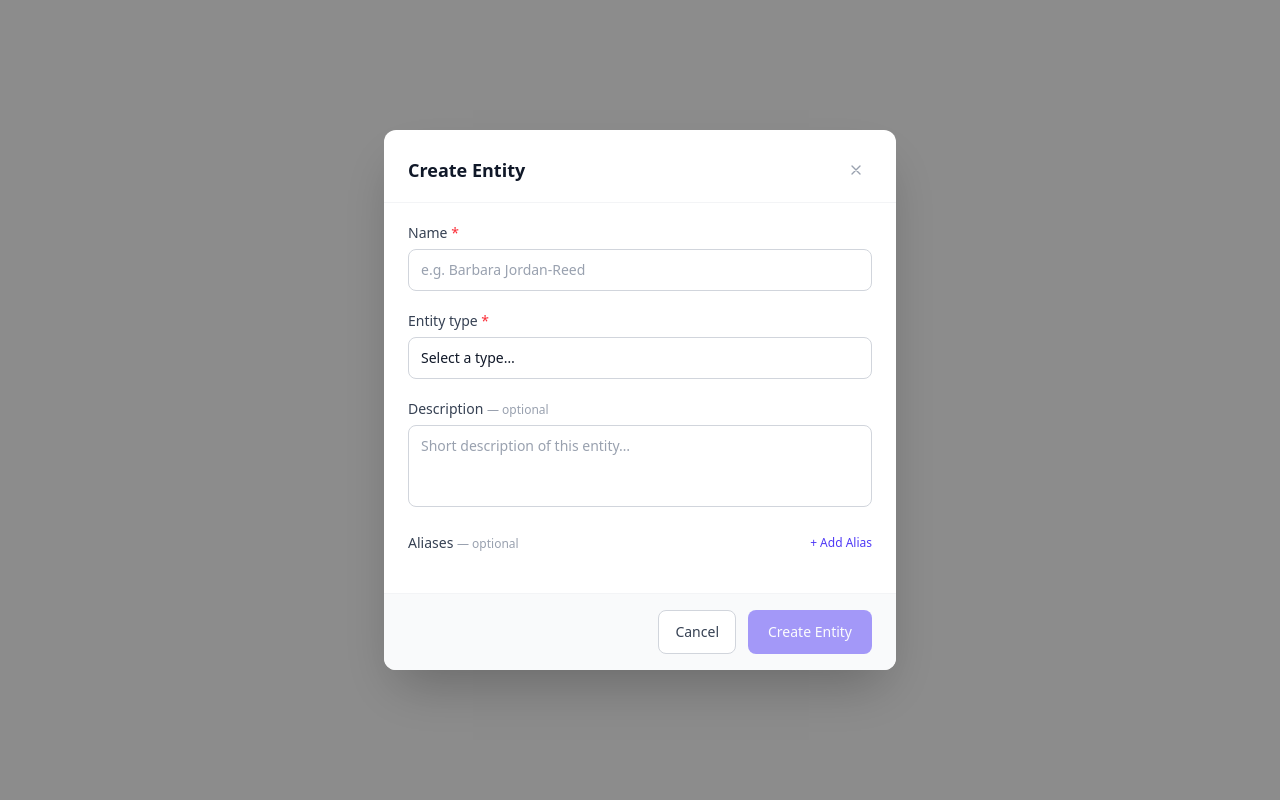
Test case: CreateEntityModal › Tag autocomplete — dropdown items › shows a listbox of tag results when name has 2+ chars and results arrive
Type "gar" into the dropdown labelled "Name *" at [640, 270], box [408,249,872,291]
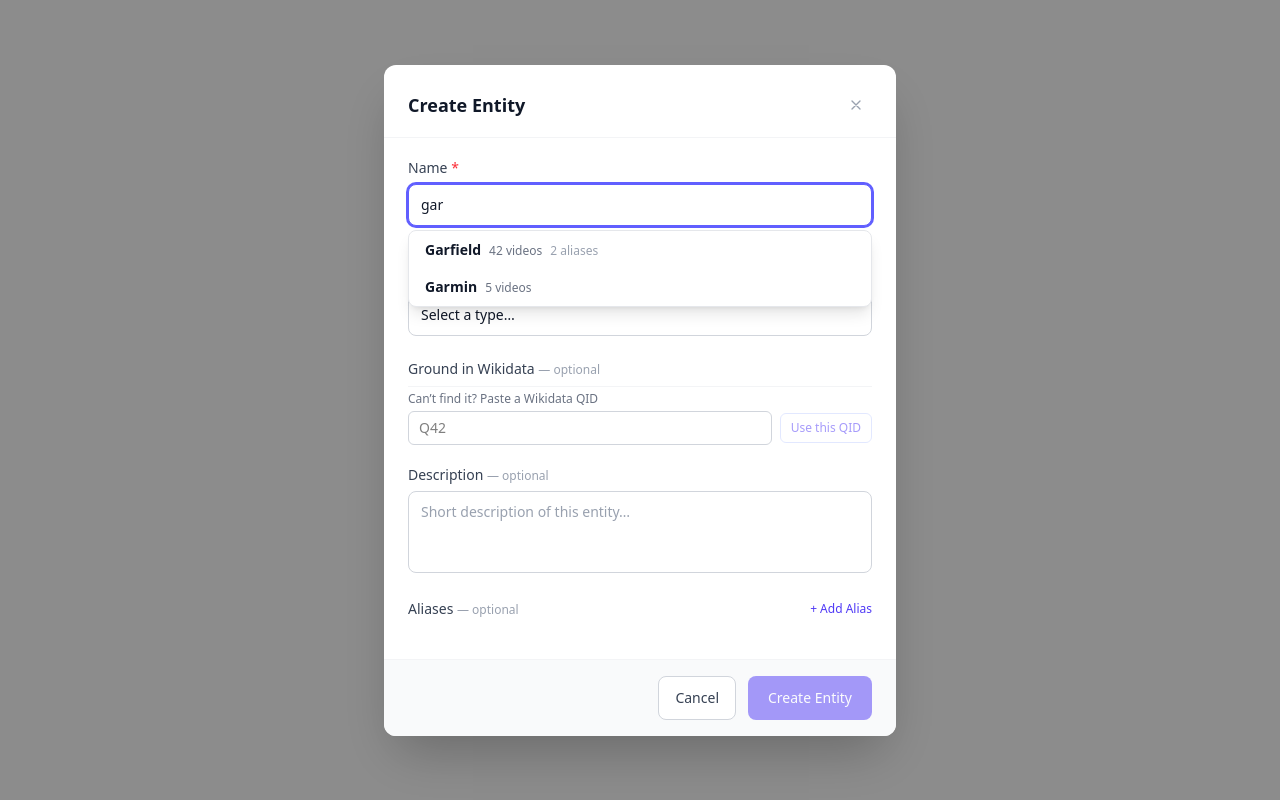
Check: the list named "matching canonical tags" is shown, box [408,230,872,306]
Check: the option "Garfield 42 videos 2 aliases" is shown, box [425,240,598,258]
Check: the option "Garmin 5 videos" is shown, box [425,277,532,296]
